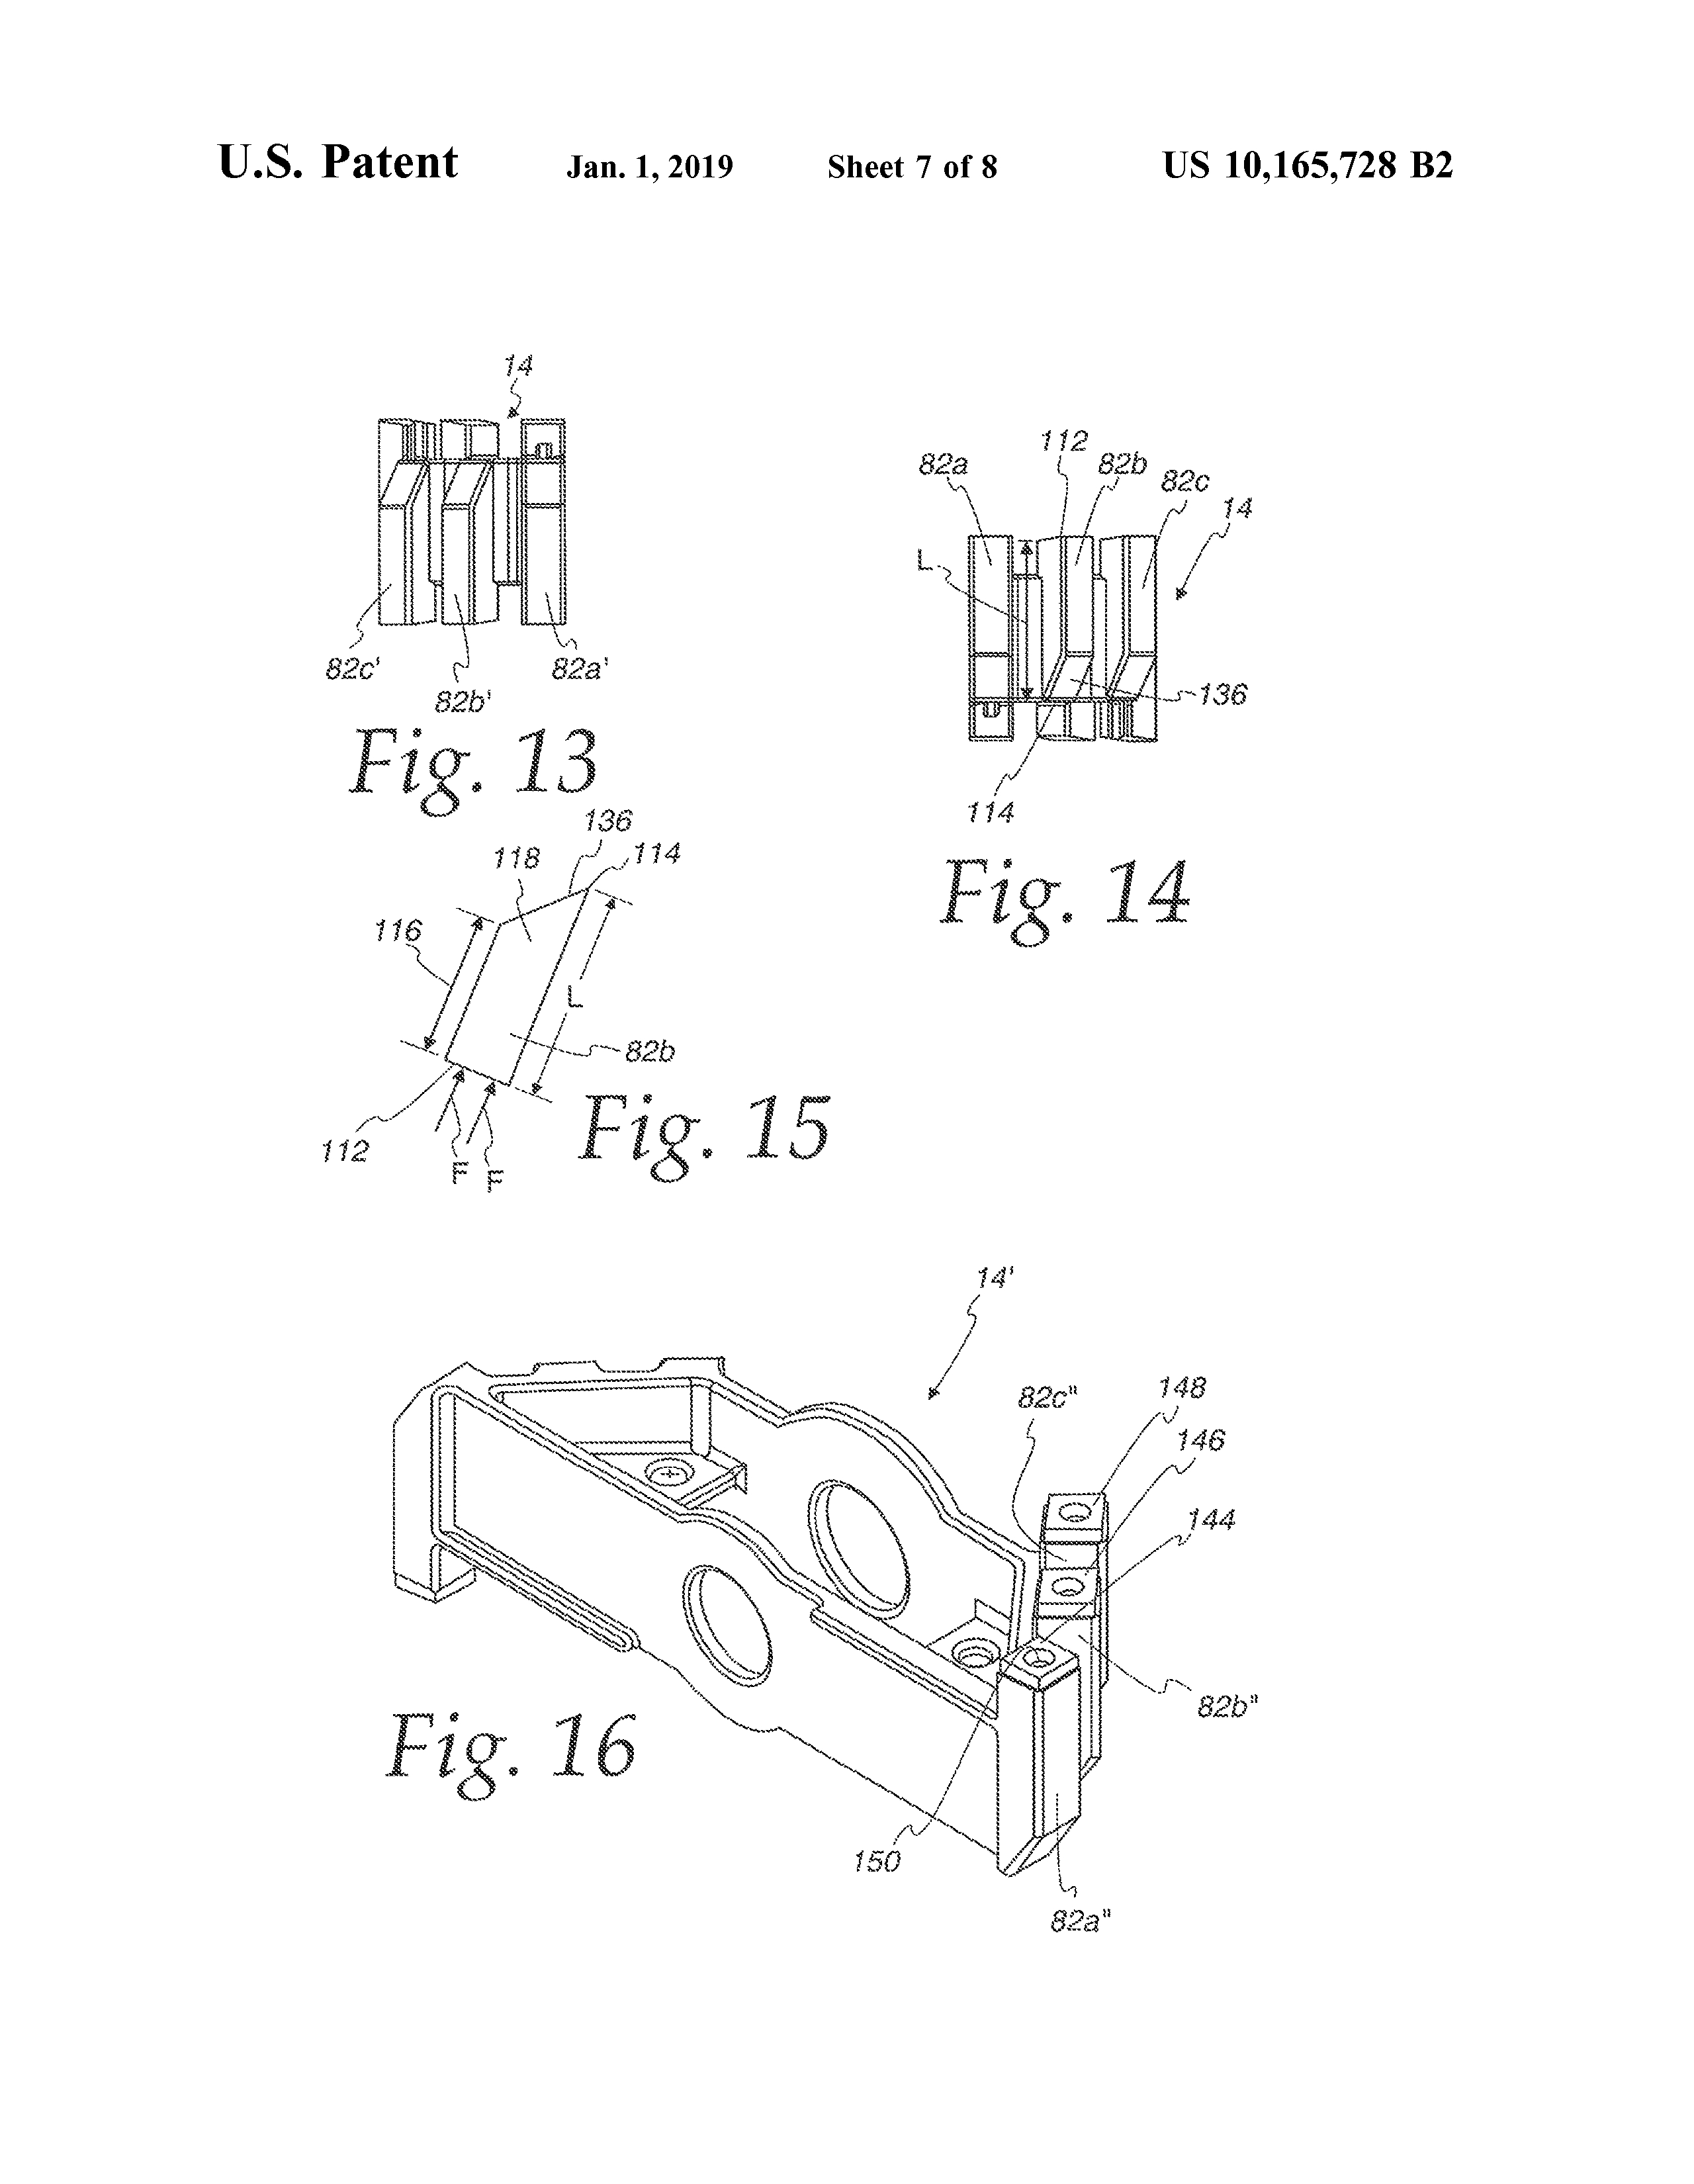patent image: (362, 1257, 1276, 1951), (848, 383, 1263, 970), (316, 803, 866, 1208), (319, 331, 612, 809)
